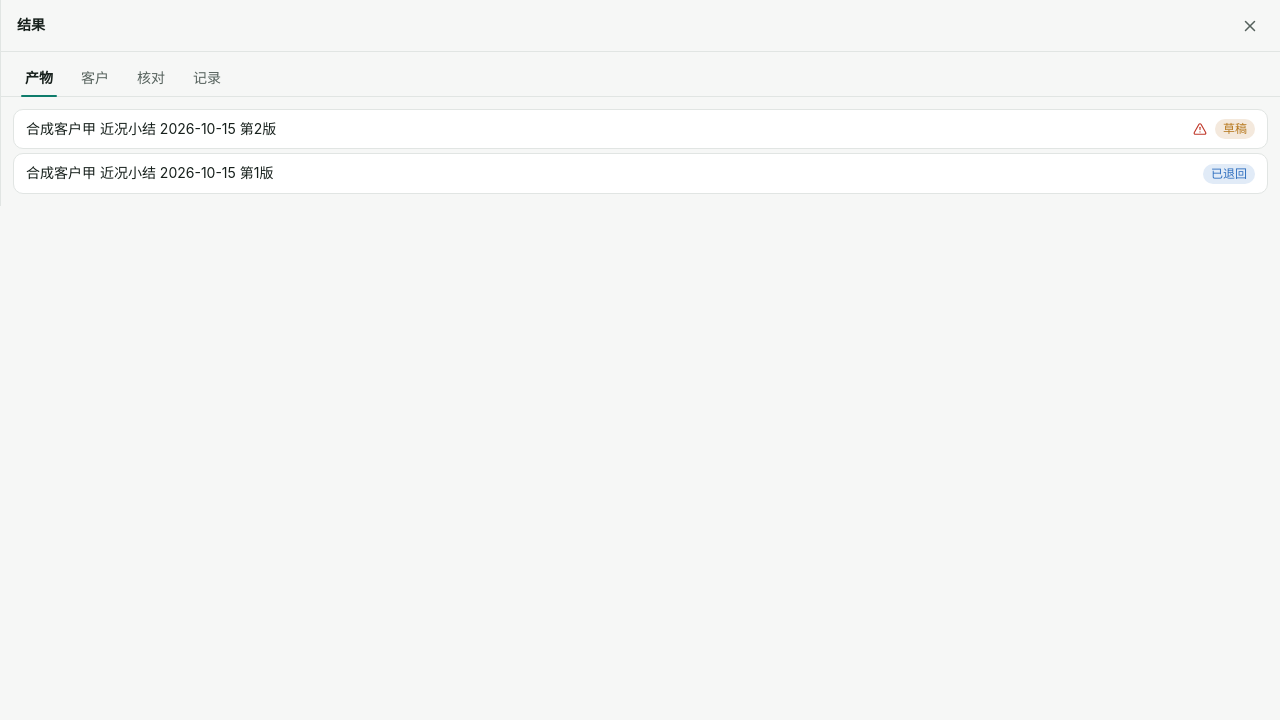
Scenario: artifact list › lists every version of the task with its status and opens the preview
Expected: the button "合成客户甲 近况小结 2026-10-15 第1版 已退回" is shown, [13, 153, 1268, 194]
Click the button "合成客户甲 近况小结 2026-10-15 第2版 草稿" at [151, 128], box [13, 109, 1268, 149]
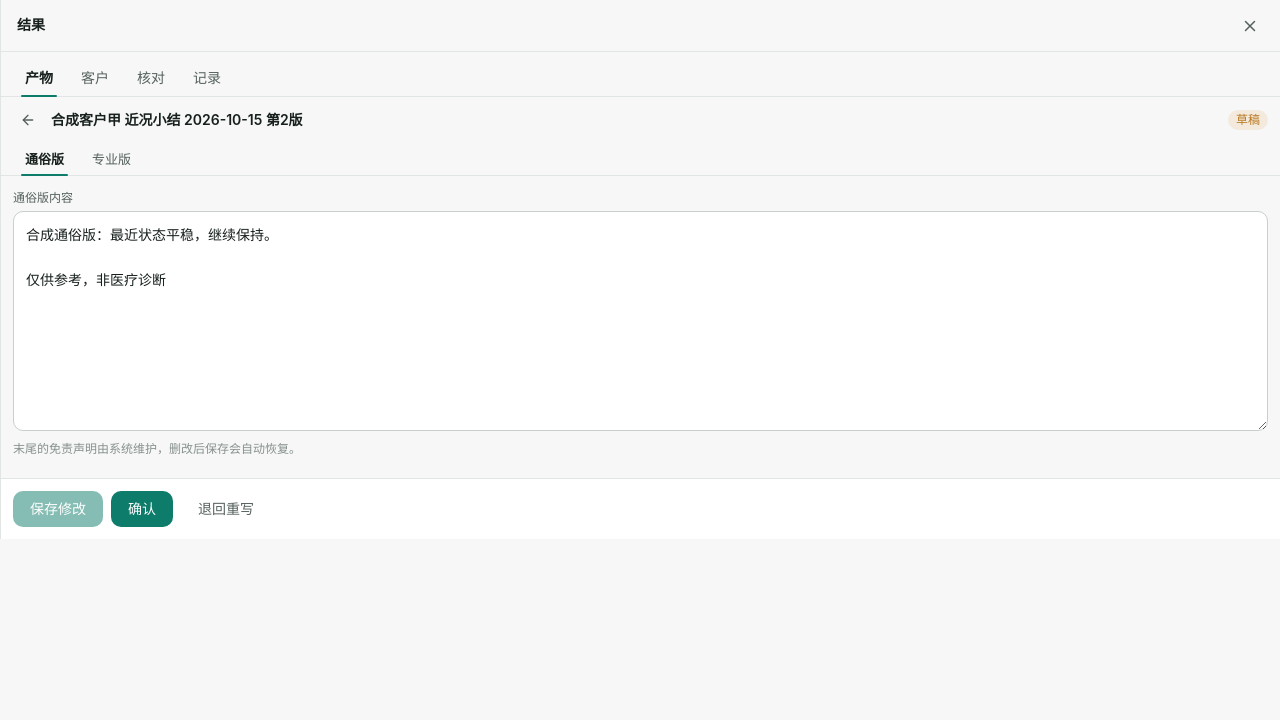
Expected: the heading "合成客户甲 近况小结 2026-10-15 第2版" is shown, [51, 111, 303, 128]
Click the tab "专业版" at [112, 159], box [80, 143, 143, 175]
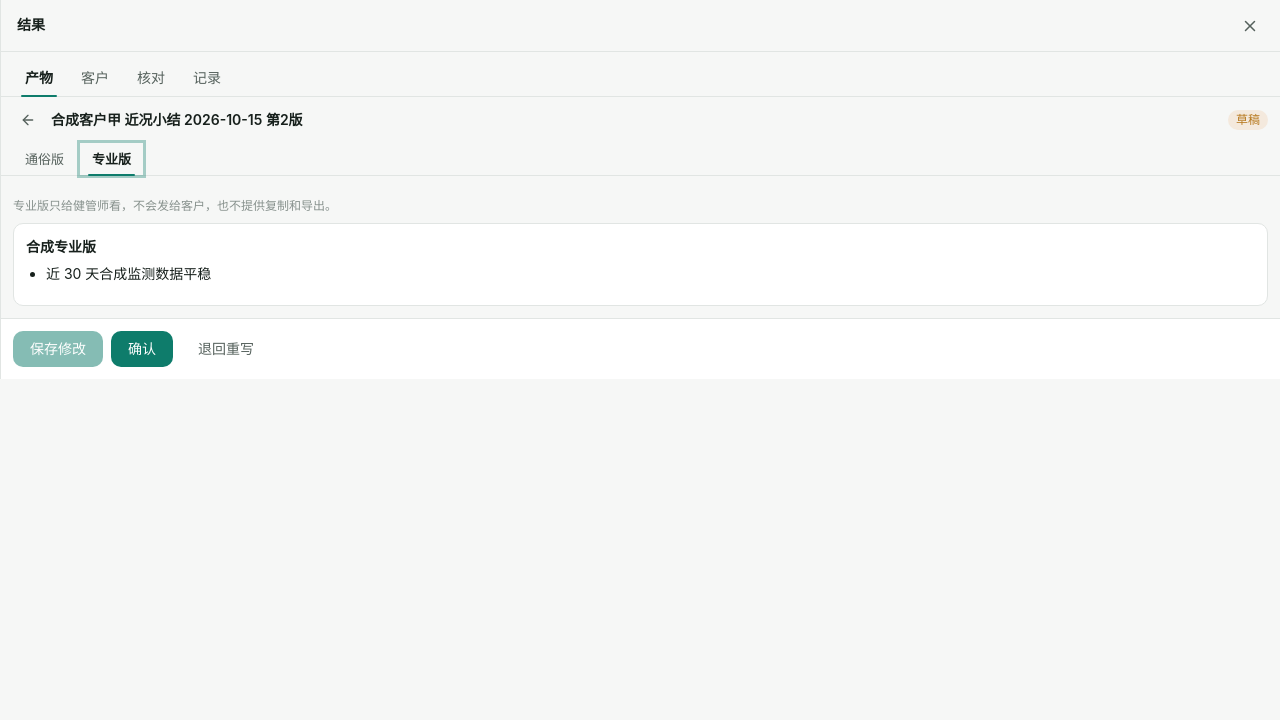
Expected: the text "合成专业版" is shown, [26, 238, 96, 255]
